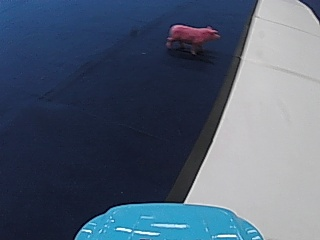pig: (165, 19, 220, 55)
